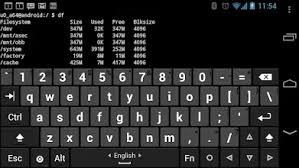keyboard: (4, 71, 278, 168)
